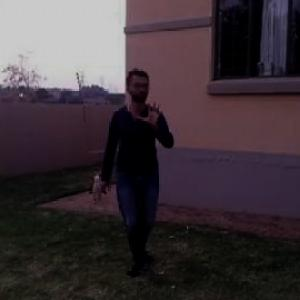follow_hand: (136, 97, 166, 129)
